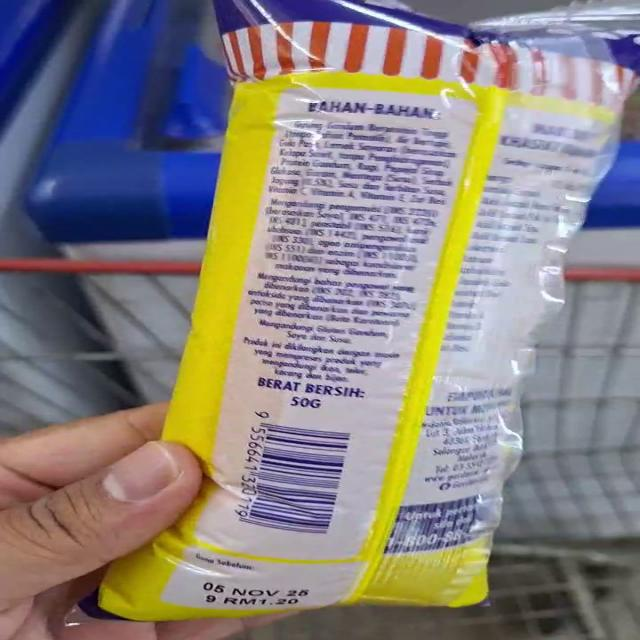Roti: (160, 0, 640, 620)
